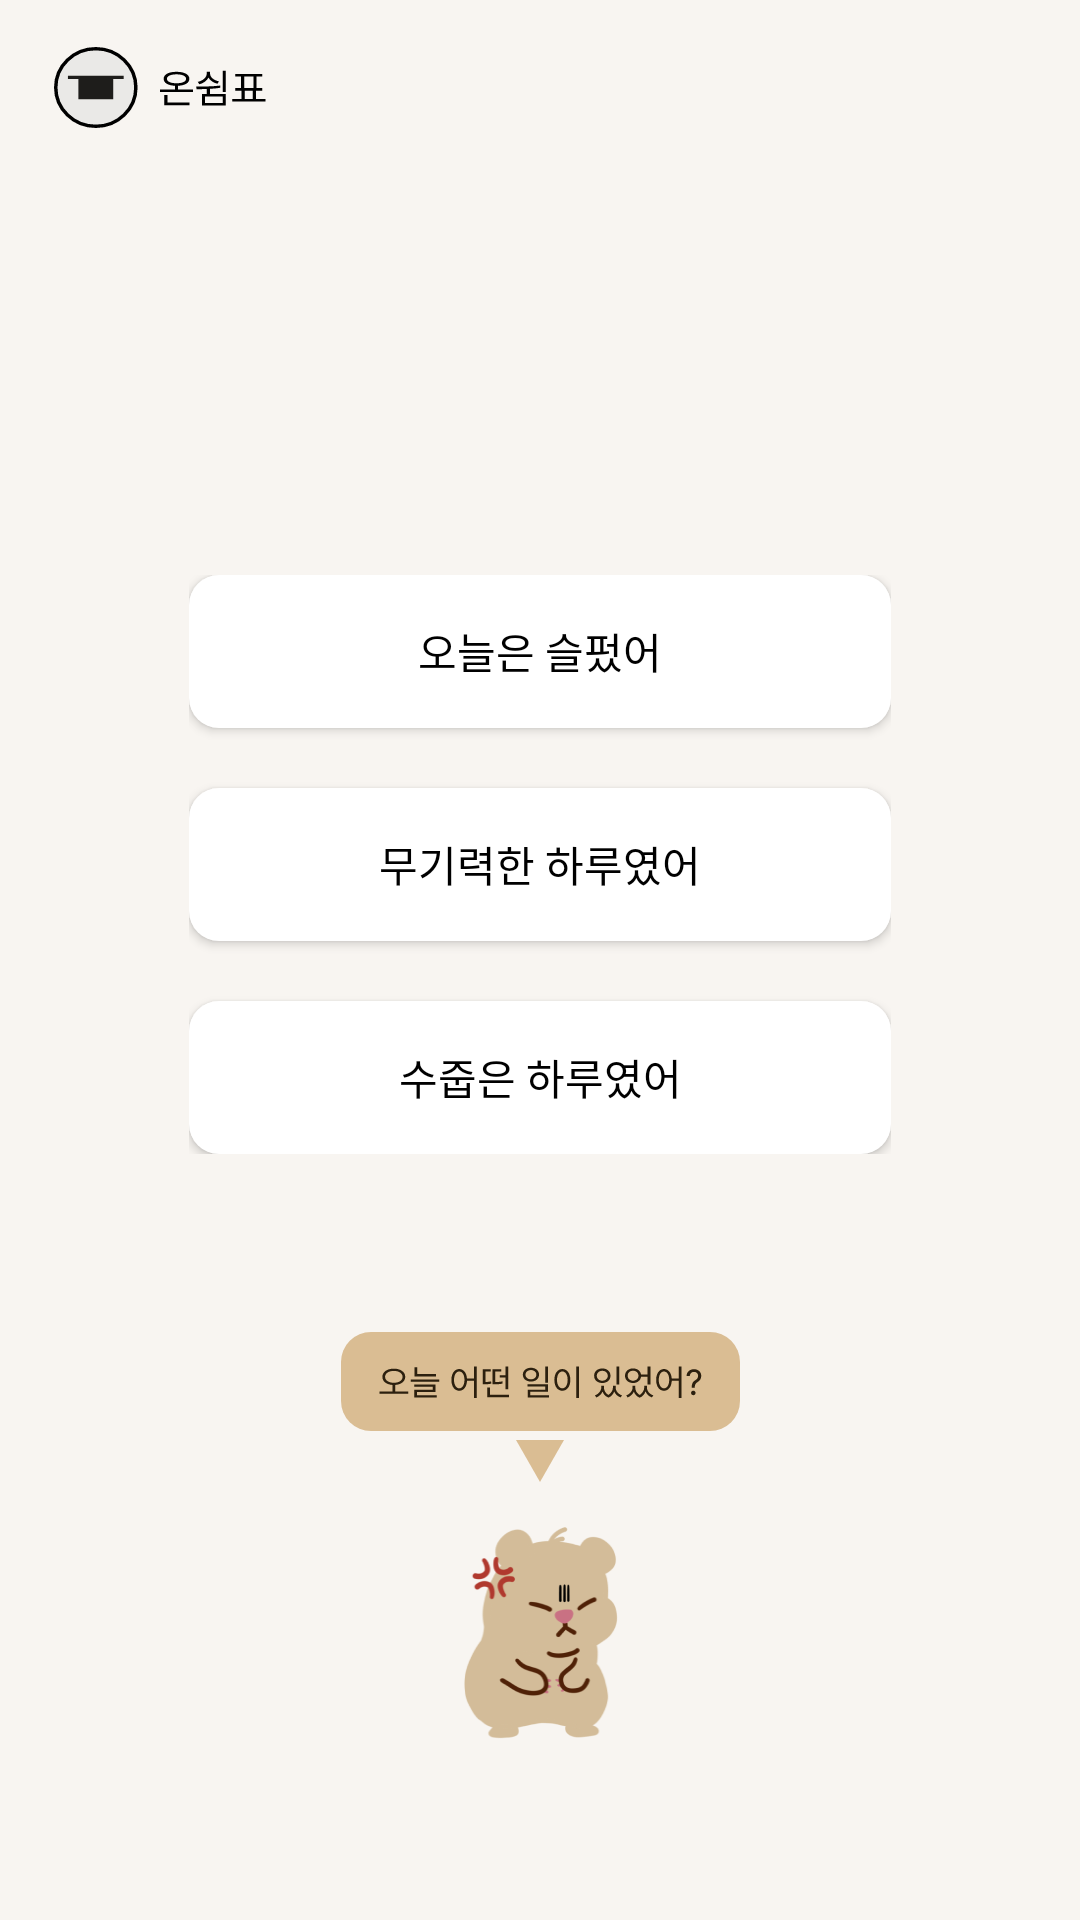

Icons on this 1080x1920 Android screen, each with the point to tap as (x,y):
angry page: (540,1632)
